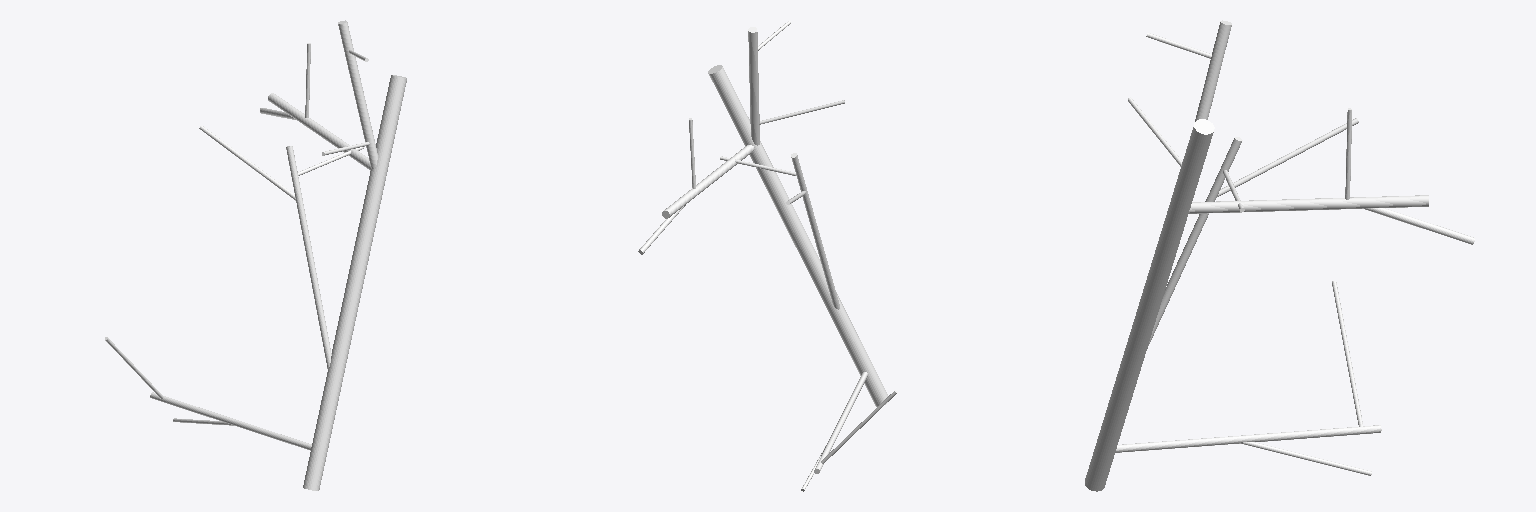
The robot description file, URDF, robot "tree_32.urdf":
<?xml version='1.0' encoding='UTF-8'?>
<robot name="tree_32.urdf">
  <link name="branch_0">
    <inertial>
      <origin xyz="0.0 0.0 0.0" rpy="0.0 -0.0 0.0"/>
      <mass value="1.0"/>
      <inertia ixx="1.0" ixy="0.0" ixz="0.0" iyy="1.0" iyz="0.0" izz="1.0"/>
    </inertial>
    <visual name="branch_0_visual">
      <geometry>
        <cylinder radius="0.17446513168849" length="8.810282463713296"/>
      </geometry>
      <material name="branch_material"/>
      <origin xyz="1.5862349917612477 0.9092742551259213 4.007785941449582" rpy="-2.407990116111147e-17 0.42800071080922225 0.5205015281498085"/>
    </visual>
    <collision name="branch_0_collision">
      <geometry>
        <cylinder radius="0.17446513168849" length="8.810282463713296"/>
      </geometry>
      <origin xyz="1.5862349917612477 0.9092742551259213 4.007785941449582" rpy="-2.407990116111147e-17 0.42800071080922225 0.5205015281498085"/>
    </collision>
  </link>
  <link name="branch_1">
    <inertial>
      <origin xyz="0.0 0.0 0.0" rpy="0.0 -0.0 0.0"/>
      <mass value="1.0"/>
      <inertia ixx="1.0" ixy="0.0" ixz="0.0" iyy="1.0" iyz="0.0" izz="1.0"/>
    </inertial>
    <visual name="branch_1_visual">
      <geometry>
        <cylinder radius="0.10100555764120812" length="3.4180353439420927"/>
      </geometry>
      <material name="branch_material"/>
      <origin xyz="0.0 0.0 0.0" rpy="0.0 -0.0 0.0"/>
    </visual>
    <collision name="branch_1_collision">
      <geometry>
        <cylinder radius="0.10100555764120812" length="3.4180353439420927"/>
      </geometry>
      <origin xyz="0.0 0.0 0.0" rpy="0.0 -0.0 0.0"/>
    </collision>
  </link>
  <link name="branch_2">
    <inertial>
      <origin xyz="0.0 0.0 0.0" rpy="0.0 -0.0 0.0"/>
      <mass value="1.0"/>
      <inertia ixx="1.0" ixy="0.0" ixz="0.0" iyy="1.0" iyz="0.0" izz="1.0"/>
    </inertial>
    <visual name="branch_2_visual">
      <geometry>
        <cylinder radius="0.04" length="2.0310156802076347"/>
      </geometry>
      <material name="branch_material"/>
      <origin xyz="0.0 0.0 0.0" rpy="0.0 -0.0 0.0"/>
    </visual>
    <collision name="branch_2_collision">
      <geometry>
        <cylinder radius="0.04" length="2.0310156802076347"/>
      </geometry>
      <origin xyz="0.0 0.0 0.0" rpy="0.0 -0.0 0.0"/>
    </collision>
  </link>
  <link name="branch_3">
    <inertial>
      <origin xyz="0.0 0.0 0.0" rpy="0.0 -0.0 0.0"/>
      <mass value="1.0"/>
      <inertia ixx="1.0" ixy="0.0" ixz="0.0" iyy="1.0" iyz="0.0" izz="1.0"/>
    </inertial>
    <visual name="branch_3_visual">
      <geometry>
        <cylinder radius="0.04" length="1.2331033547217933"/>
      </geometry>
      <material name="branch_material"/>
      <origin xyz="0.0 0.0 0.0" rpy="0.0 -0.0 0.0"/>
    </visual>
    <collision name="branch_3_collision">
      <geometry>
        <cylinder radius="0.04" length="1.2331033547217933"/>
      </geometry>
      <origin xyz="0.0 0.0 0.0" rpy="0.0 -0.0 0.0"/>
    </collision>
  </link>
  <link name="branch_4">
    <inertial>
      <origin xyz="0.0 0.0 0.0" rpy="0.0 -0.0 0.0"/>
      <mass value="1.0"/>
      <inertia ixx="1.0" ixy="0.0" ixz="0.0" iyy="1.0" iyz="0.0" izz="1.0"/>
    </inertial>
    <visual name="branch_4_visual">
      <geometry>
        <cylinder radius="0.07128805255756183" length="5.034643487656017"/>
      </geometry>
      <material name="branch_material"/>
      <origin xyz="0.0 0.0 0.0" rpy="0.0 -0.0 0.0"/>
    </visual>
    <collision name="branch_4_collision">
      <geometry>
        <cylinder radius="0.07128805255756183" length="5.034643487656017"/>
      </geometry>
      <origin xyz="0.0 0.0 0.0" rpy="0.0 -0.0 0.0"/>
    </collision>
  </link>
  <link name="branch_5">
    <inertial>
      <origin xyz="0.0 0.0 0.0" rpy="0.0 -0.0 0.0"/>
      <mass value="1.0"/>
      <inertia ixx="1.0" ixy="0.0" ixz="0.0" iyy="1.0" iyz="0.0" izz="1.0"/>
    </inertial>
    <visual name="branch_5_visual">
      <geometry>
        <cylinder radius="0.046258297080416524" length="2.7708830744913864"/>
      </geometry>
      <material name="branch_material"/>
      <origin xyz="0.0 0.0 0.0" rpy="0.0 -0.0 0.0"/>
    </visual>
    <collision name="branch_5_collision">
      <geometry>
        <cylinder radius="0.046258297080416524" length="2.7708830744913864"/>
      </geometry>
      <origin xyz="0.0 0.0 0.0" rpy="0.0 -0.0 0.0"/>
    </collision>
  </link>
  <link name="branch_6">
    <inertial>
      <origin xyz="0.0 0.0 0.0" rpy="0.0 -0.0 0.0"/>
      <mass value="1.0"/>
      <inertia ixx="1.0" ixy="0.0" ixz="0.0" iyy="1.0" iyz="0.0" izz="1.0"/>
    </inertial>
    <visual name="branch_6_visual">
      <geometry>
        <cylinder radius="0.04" length="1.8449283133425065"/>
      </geometry>
      <material name="branch_material"/>
      <origin xyz="0.0 0.0 0.0" rpy="0.0 -0.0 0.0"/>
    </visual>
    <collision name="branch_6_collision">
      <geometry>
        <cylinder radius="0.04" length="1.8449283133425065"/>
      </geometry>
      <origin xyz="0.0 0.0 0.0" rpy="0.0 -0.0 0.0"/>
    </collision>
  </link>
  <link name="branch_7">
    <inertial>
      <origin xyz="0.0 0.0 0.0" rpy="0.0 -0.0 0.0"/>
      <mass value="1.0"/>
      <inertia ixx="1.0" ixy="0.0" ixz="0.0" iyy="1.0" iyz="0.0" izz="1.0"/>
    </inertial>
    <visual name="branch_7_visual">
      <geometry>
        <cylinder radius="0.06656781436526936" length="4.777270386939194"/>
      </geometry>
      <material name="branch_material"/>
      <origin xyz="0.0 0.0 0.0" rpy="0.0 -0.0 0.0"/>
    </visual>
    <collision name="branch_7_collision">
      <geometry>
        <cylinder radius="0.06656781436526936" length="4.777270386939194"/>
      </geometry>
      <origin xyz="0.0 0.0 0.0" rpy="0.0 -0.0 0.0"/>
    </collision>
  </link>
  <link name="branch_8">
    <inertial>
      <origin xyz="0.0 0.0 0.0" rpy="0.0 -0.0 0.0"/>
      <mass value="1.0"/>
      <inertia ixx="1.0" ixy="0.0" ixz="0.0" iyy="1.0" iyz="0.0" izz="1.0"/>
    </inertial>
    <visual name="branch_8_visual">
      <geometry>
        <cylinder radius="0.04" length="2.600370794247026"/>
      </geometry>
      <material name="branch_material"/>
      <origin xyz="0.0 0.0 0.0" rpy="0.0 -0.0 0.0"/>
    </visual>
    <collision name="branch_8_collision">
      <geometry>
        <cylinder radius="0.04" length="2.600370794247026"/>
      </geometry>
      <origin xyz="0.0 0.0 0.0" rpy="0.0 -0.0 0.0"/>
    </collision>
  </link>
  <link name="branch_9">
    <inertial>
      <origin xyz="0.0 0.0 0.0" rpy="0.0 -0.0 0.0"/>
      <mass value="1.0"/>
      <inertia ixx="1.0" ixy="0.0" ixz="0.0" iyy="1.0" iyz="0.0" izz="1.0"/>
    </inertial>
    <visual name="branch_9_visual">
      <geometry>
        <cylinder radius="0.04" length="2.3908462226231673"/>
      </geometry>
      <material name="branch_material"/>
      <origin xyz="0.0 0.0 0.0" rpy="0.0 -0.0 0.0"/>
    </visual>
    <collision name="branch_9_collision">
      <geometry>
        <cylinder radius="0.04" length="2.3908462226231673"/>
      </geometry>
      <origin xyz="0.0 0.0 0.0" rpy="0.0 -0.0 0.0"/>
    </collision>
  </link>
  <link name="branch_10">
    <inertial>
      <origin xyz="0.0 0.0 0.0" rpy="0.0 -0.0 0.0"/>
      <mass value="1.0"/>
      <inertia ixx="1.0" ixy="0.0" ixz="0.0" iyy="1.0" iyz="0.0" izz="1.0"/>
    </inertial>
    <visual name="branch_10_visual">
      <geometry>
        <cylinder radius="0.09783740666224827" length="4.152584420989863"/>
      </geometry>
      <material name="branch_material"/>
      <origin xyz="0.0 0.0 0.0" rpy="0.0 -0.0 0.0"/>
    </visual>
    <collision name="branch_10_collision">
      <geometry>
        <cylinder radius="0.09783740666224827" length="4.152584420989863"/>
      </geometry>
      <origin xyz="0.0 0.0 0.0" rpy="0.0 -0.0 0.0"/>
    </collision>
  </link>
  <link name="branch_11">
    <inertial>
      <origin xyz="0.0 0.0 0.0" rpy="0.0 -0.0 0.0"/>
      <mass value="1.0"/>
      <inertia ixx="1.0" ixy="0.0" ixz="0.0" iyy="1.0" iyz="0.0" izz="1.0"/>
    </inertial>
    <visual name="branch_11_visual">
      <geometry>
        <cylinder radius="0.0629792615720797" length="2.0419753343097202"/>
      </geometry>
      <material name="branch_material"/>
      <origin xyz="0.0 0.0 0.0" rpy="0.0 -0.0 0.0"/>
    </visual>
    <collision name="branch_11_collision">
      <geometry>
        <cylinder radius="0.0629792615720797" length="2.0419753343097202"/>
      </geometry>
      <origin xyz="0.0 0.0 0.0" rpy="0.0 -0.0 0.0"/>
    </collision>
  </link>
  <link name="branch_12">
    <inertial>
      <origin xyz="0.0 0.0 0.0" rpy="0.0 -0.0 0.0"/>
      <mass value="1.0"/>
      <inertia ixx="1.0" ixy="0.0" ixz="0.0" iyy="1.0" iyz="0.0" izz="1.0"/>
    </inertial>
    <visual name="branch_12_visual">
      <geometry>
        <cylinder radius="0.04033000924579692" length="1.7604126800207716"/>
      </geometry>
      <material name="branch_material"/>
      <origin xyz="0.0 0.0 0.0" rpy="0.0 -0.0 0.0"/>
    </visual>
    <collision name="branch_12_collision">
      <geometry>
        <cylinder radius="0.04033000924579692" length="1.7604126800207716"/>
      </geometry>
      <origin xyz="0.0 0.0 0.0" rpy="0.0 -0.0 0.0"/>
    </collision>
  </link>
  <joint name="joint_0_1" type="fixed">
    <parent link="branch_0"/>
    <child link="branch_1"/>
    <axis xyz="1. 0. 0."/>
    <origin xyz="2.2135940547217947 1.7813275575772334 7.734356645012003" rpy="0.23643927175344986 0.11809385737313398 3.1386230141489255"/>
  </joint>
  <joint name="joint_0_4" type="fixed">
    <parent link="branch_0"/>
    <child link="branch_4"/>
    <axis xyz="1. 0. 0."/>
    <origin xyz="0.8382994254934786 1.4292400124401885 4.391132190242997" rpy="0.36389404955782567 0.14837972330130197 2.749272871332249"/>
  </joint>
  <joint name="joint_0_7" type="fixed">
    <parent link="branch_0"/>
    <child link="branch_7"/>
    <axis xyz="1. 0. 0."/>
    <origin xyz="-0.38600875119506306 2.4568793484430325 0.6333867022171313" rpy="1.7050380795570887 1.150763443164792 -2.7261502934859974"/>
  </joint>
  <joint name="joint_0_10" type="fixed">
    <parent link="branch_0"/>
    <child link="branch_10"/>
    <axis xyz="1. 0. 0."/>
    <origin xyz="2.3566769234423974 3.476915707099641 6.209865398808876" rpy="1.5363837181696158 1.1845476998131352 -3.12988425203519"/>
  </joint>
  <joint name="joint_1_2" type="fixed">
    <parent link="branch_0"/>
    <child link="branch_2"/>
    <axis xyz="1. 0. 0."/>
    <origin xyz="1.476705342695405 1.0644881217729307 7.060338597736157" rpy="0.7661725818717897 1.1891596563202378 -1.8171964468005637"/>
  </joint>
  <joint name="joint_1_3" type="fixed">
    <parent link="branch_0"/>
    <child link="branch_3"/>
    <axis xyz="1. 0. 0."/>
    <origin xyz="1.9674651840996362 1.4491839906269763 8.923378900402" rpy="0.5377878396841571 1.2629903507570532 -1.2228517710895805"/>
  </joint>
  <joint name="joint_4_5" type="fixed">
    <parent link="branch_0"/>
    <child link="branch_5"/>
    <axis xyz="1. 0. 0."/>
    <origin xyz="0.35965218163821505 3.1551758264767553 6.121246450443763" rpy="0.4997274492490575 1.1716384196230516 2.491528606131758"/>
  </joint>
  <joint name="joint_4_6" type="fixed">
    <parent link="branch_0"/>
    <child link="branch_6"/>
    <axis xyz="1. 0. 0."/>
    <origin xyz="1.7627971688296835 2.3011866823912324 6.198862109187107" rpy="-1.4080727452270827 1.1780735668609648 -1.257705637193627"/>
  </joint>
  <joint name="joint_7_8" type="fixed">
    <parent link="branch_0"/>
    <child link="branch_8"/>
    <axis xyz="1. 0. 0."/>
    <origin xyz="-1.8045273533955901 4.201932745608972 1.5003231224396425" rpy="0.7167241750436455 -0.03290957365086186 -1.2591127362031262"/>
  </joint>
  <joint name="joint_7_9" type="fixed">
    <parent link="branch_0"/>
    <child link="branch_9"/>
    <axis xyz="1. 0. 0."/>
    <origin xyz="-0.4900368675375082 3.461251692711808 0.26474957506808083" rpy="-2.1164801774341293 0.9205664879022696 -0.3258649227411126"/>
  </joint>
  <joint name="joint_10_11" type="fixed">
    <parent link="branch_0"/>
    <child link="branch_11"/>
    <axis xyz="1. 0. 0."/>
    <origin xyz="2.391646782639073 5.33120717016895 5.90316143801558" rpy="-2.327146356823052 1.0993774098026943 -0.7750144453616074"/>
  </joint>
  <joint name="joint_10_12" type="fixed">
    <parent link="branch_0"/>
    <child link="branch_12"/>
    <axis xyz="1. 0. 0."/>
    <origin xyz="2.363647565363515 4.215250478841249 7.098299658898852" rpy="-0.044510793882717205 -0.021786915465093187 -1.5256612263717704"/>
  </joint>
  <material name="branch_material">
    <color rgba="1. 1. 1. 1."/>
  </material>
</robot>

--- Render facts (derived) ---
Views: 3 orthographic renders of the robot side by side, from view 1: azimuth 30°, elevation 25°; view 2: azimuth 150°, elevation 25°; view 3: azimuth 270°, elevation 25°.
Robot: tree_32.urdf — 13 links, 12 joints (12 fixed); root link branch_0; default pose: all joints at 0.
Links seen in each view (by area): view 1: branch_0, branch_4, branch_1, branch_10, branch_7, branch_5; view 2: branch_0, branch_1, branch_4, branch_10, branch_7; view 3: branch_0, branch_10, branch_7, branch_4, branch_1, branch_5, branch_11, branch_8, branch_9.
Boxes of the visible links, x1,y1,x2,y2 form: branch_0: (303,75,406,490); branch_4: (286,146,331,369); branch_1: (338,20,377,168); branch_10: (268,93,370,170); branch_7: (150,392,311,450); branch_5: (199,125,295,200); branch_0: (708,65,887,406); branch_1: (748,27,759,145); branch_4: (791,153,839,309); branch_10: (662,145,754,218); branch_7: (814,372,867,473); branch_0: (1085,119,1214,491); branch_10: (1188,195,1428,213); branch_7: (1115,425,1381,452); branch_4: (1147,137,1242,348); branch_1: (1195,20,1231,121); branch_5: (1217,118,1358,196); branch_11: (1364,208,1474,244); branch_8: (1332,281,1362,426); branch_9: (1240,442,1371,475).
Bounding box of the posed robot: 5.99 × 6.49 × 9.56 m (x, y, z).
Geometry: primitives only (box / cylinder / sphere), no mesh files.